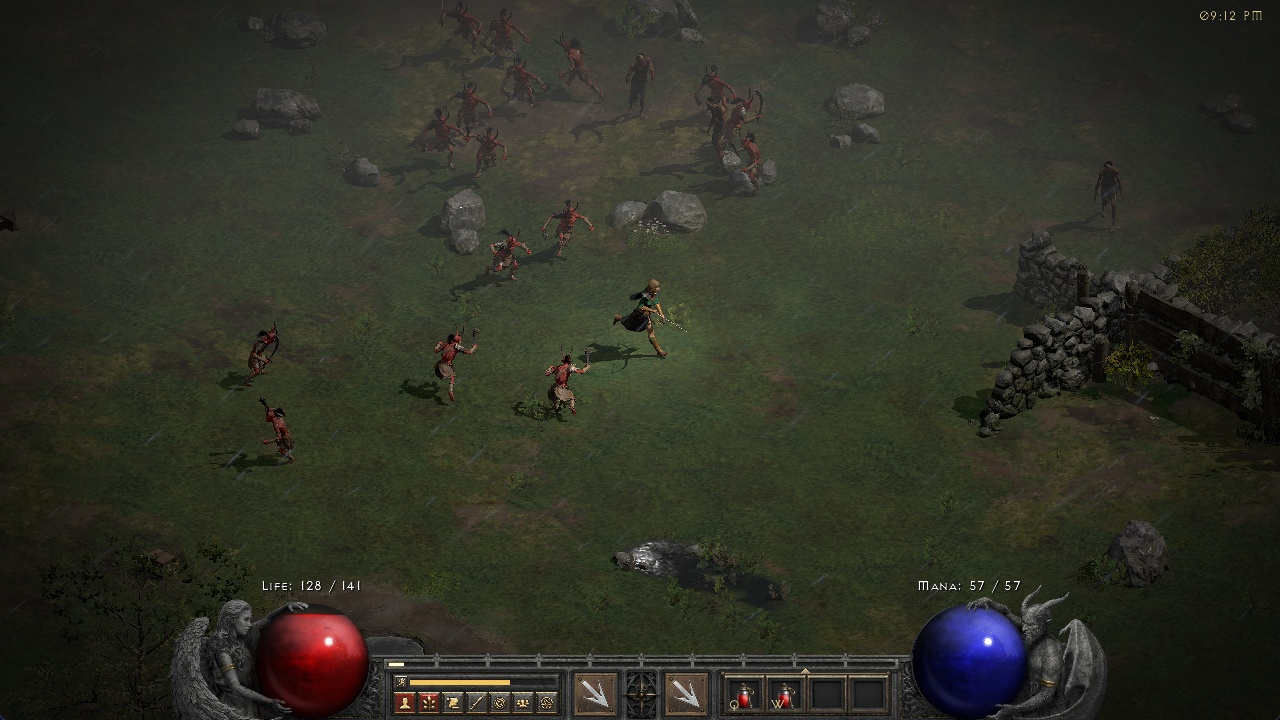fallen: (433, 325, 488, 408), (552, 36, 612, 98), (539, 199, 598, 258), (543, 352, 597, 413), (253, 396, 299, 467), (462, 128, 516, 177), (728, 133, 773, 186), (245, 322, 282, 384), (484, 231, 529, 280), (413, 112, 462, 156), (439, 5, 482, 52), (500, 60, 545, 102), (728, 86, 766, 130), (486, 12, 526, 51), (449, 85, 487, 120), (695, 69, 728, 95)
